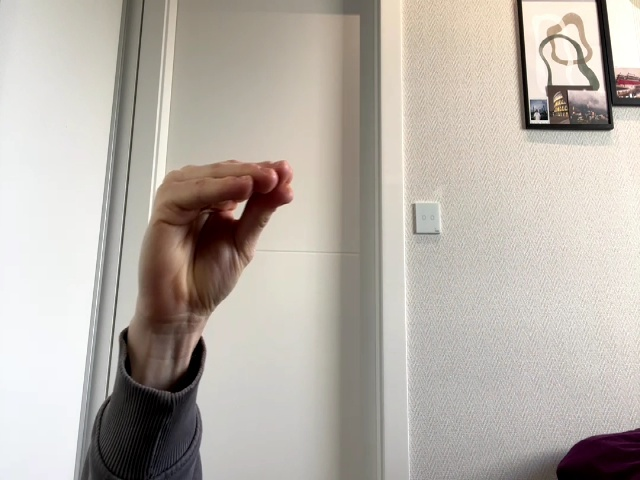E: (137, 160, 293, 328)
